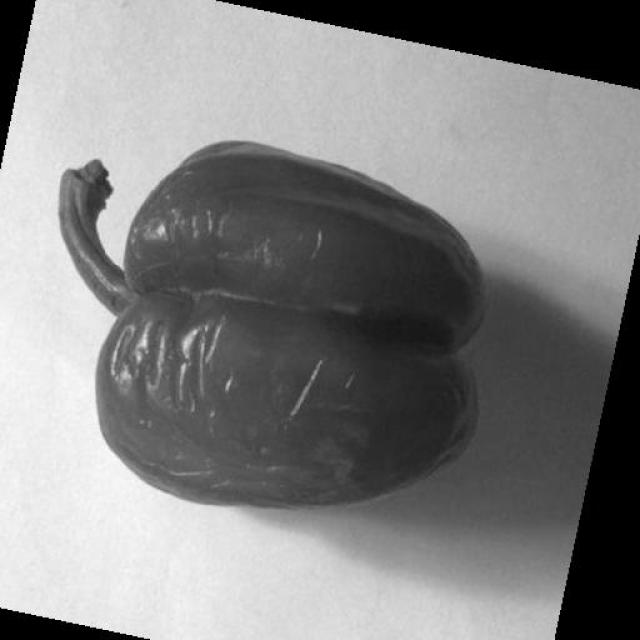Stale_Capsicum: (102, 111, 529, 538)
